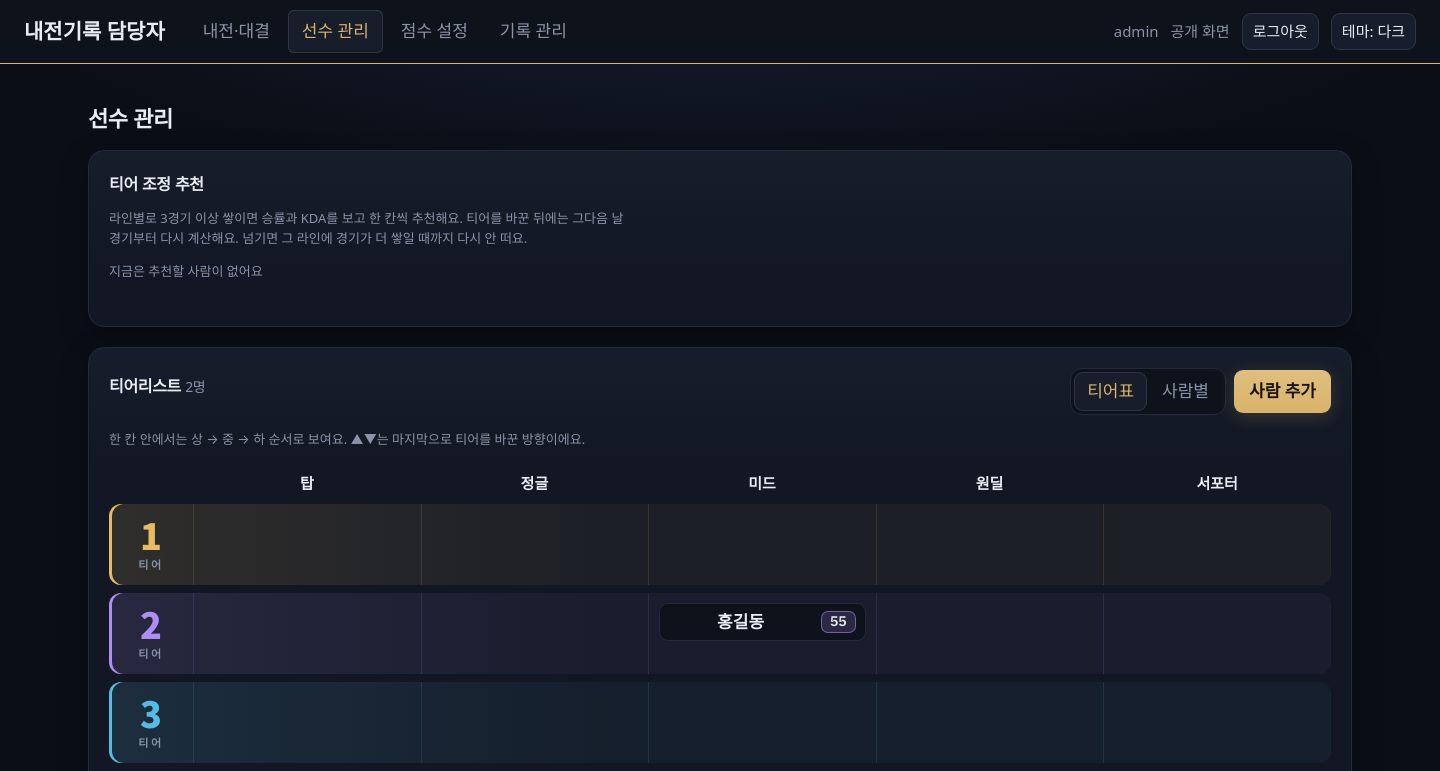
Test case: PlayerTierAdminPage › 409 DUPLICATE_REAL_NAME(서버 검사)도 문구로 보여 준다
Click the button with aria-label "홍길동 수정": (762, 622) left=659, top=603, right=866, bottom=641
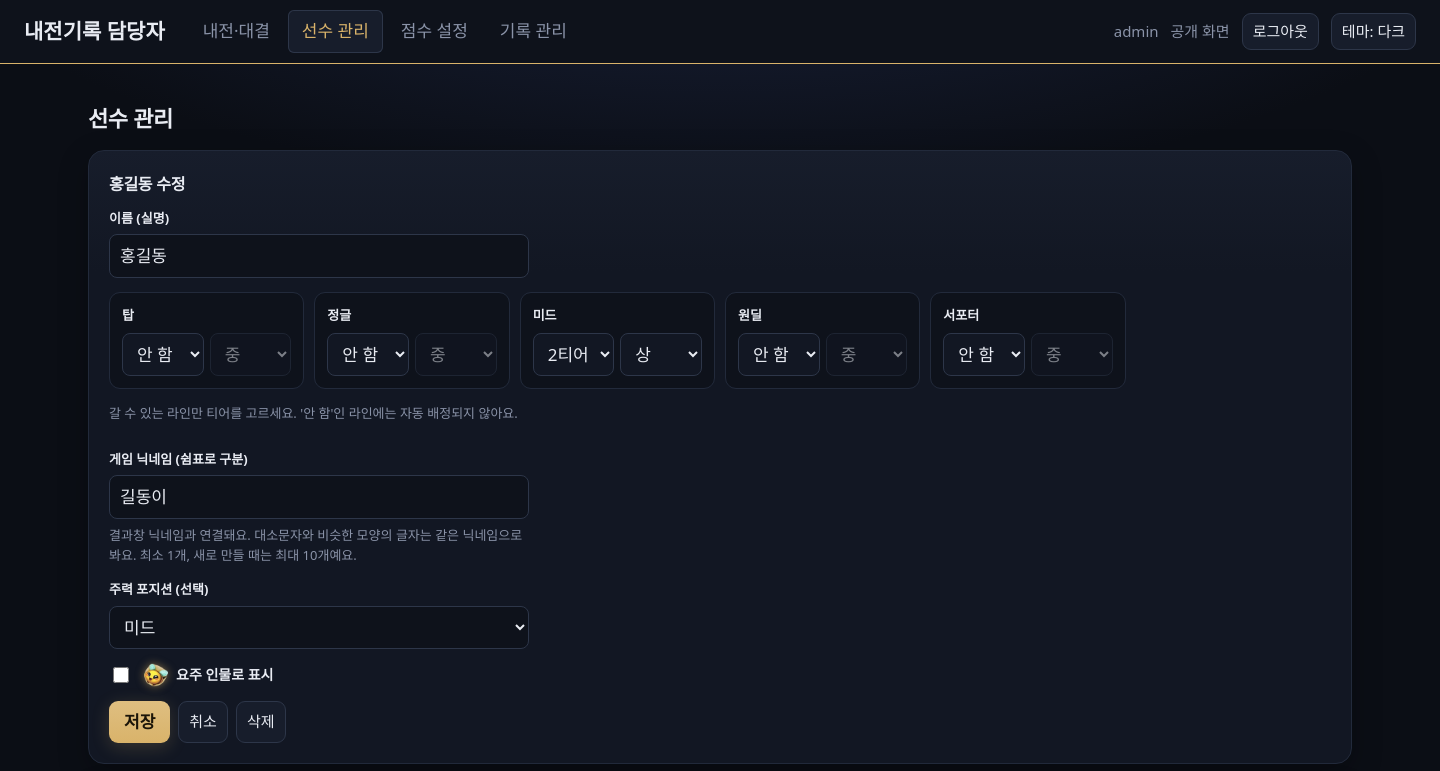
Expected: the heading "홍길동 수정" is shown, left=109, top=171, right=185, bottom=195
Click the button "저장": (140, 722) left=109, top=701, right=170, bottom=743
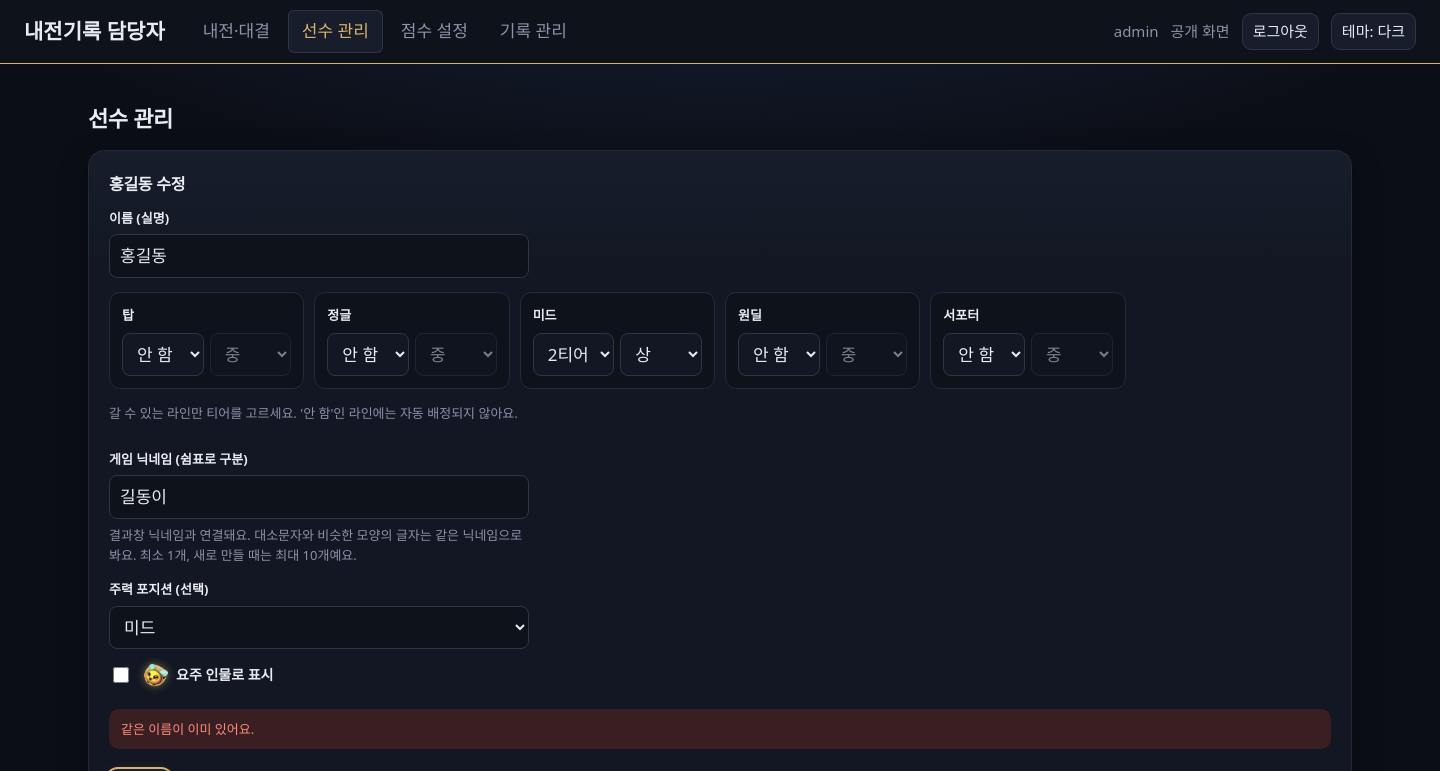
Expected: the message reads "같은 이름이 이미 있어요.", left=121, top=720, right=254, bottom=738
